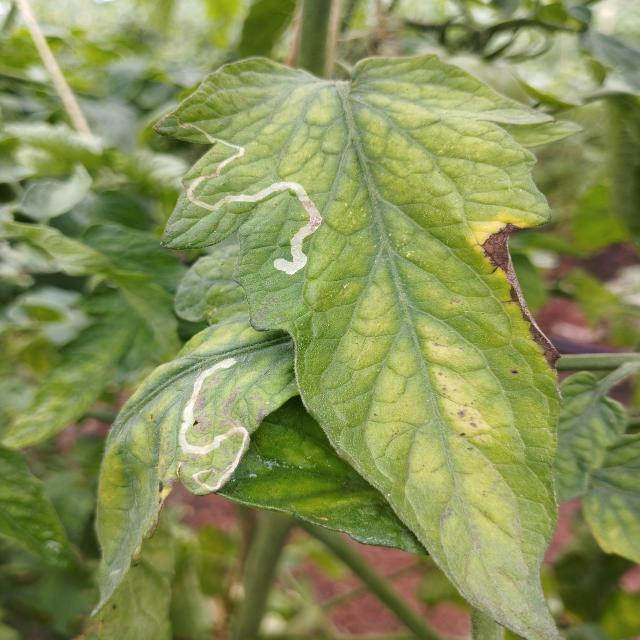Tomato mosaic virus leaf: (326, 150, 574, 640)
